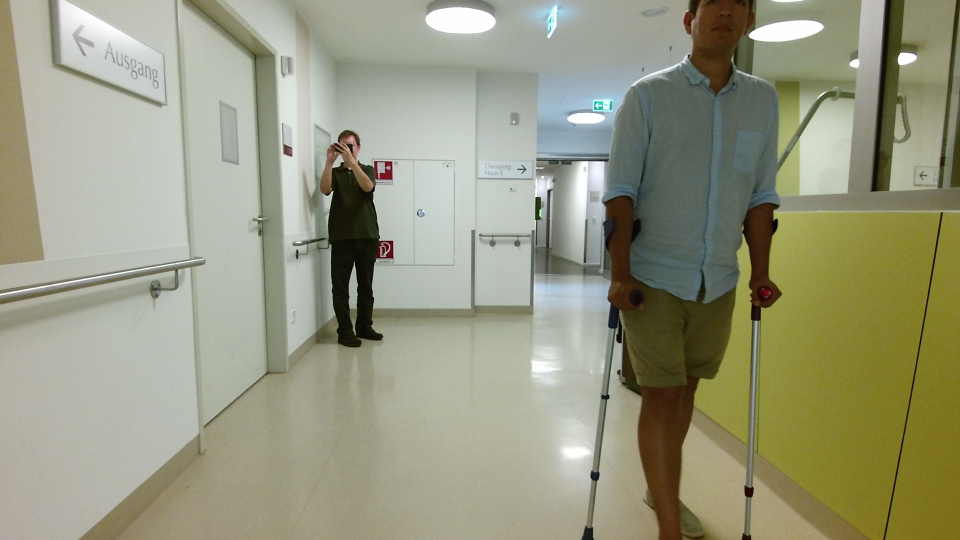crutches: (583, 1, 781, 540)
